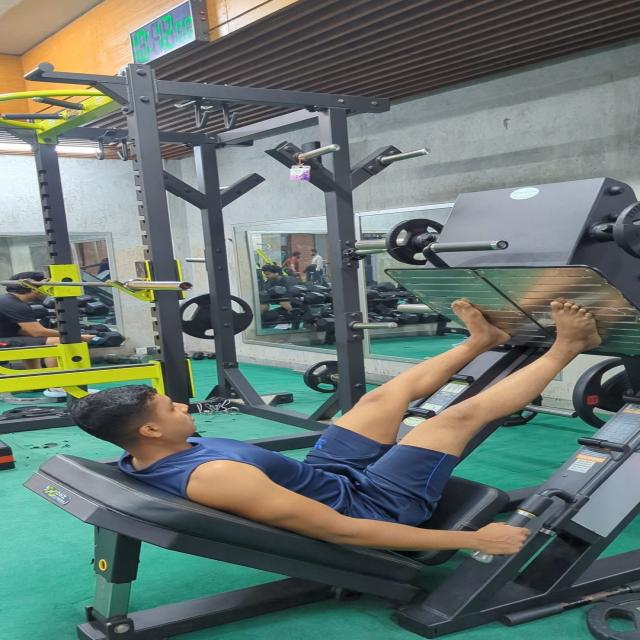Normal_LegPress: (44, 295, 640, 565)
